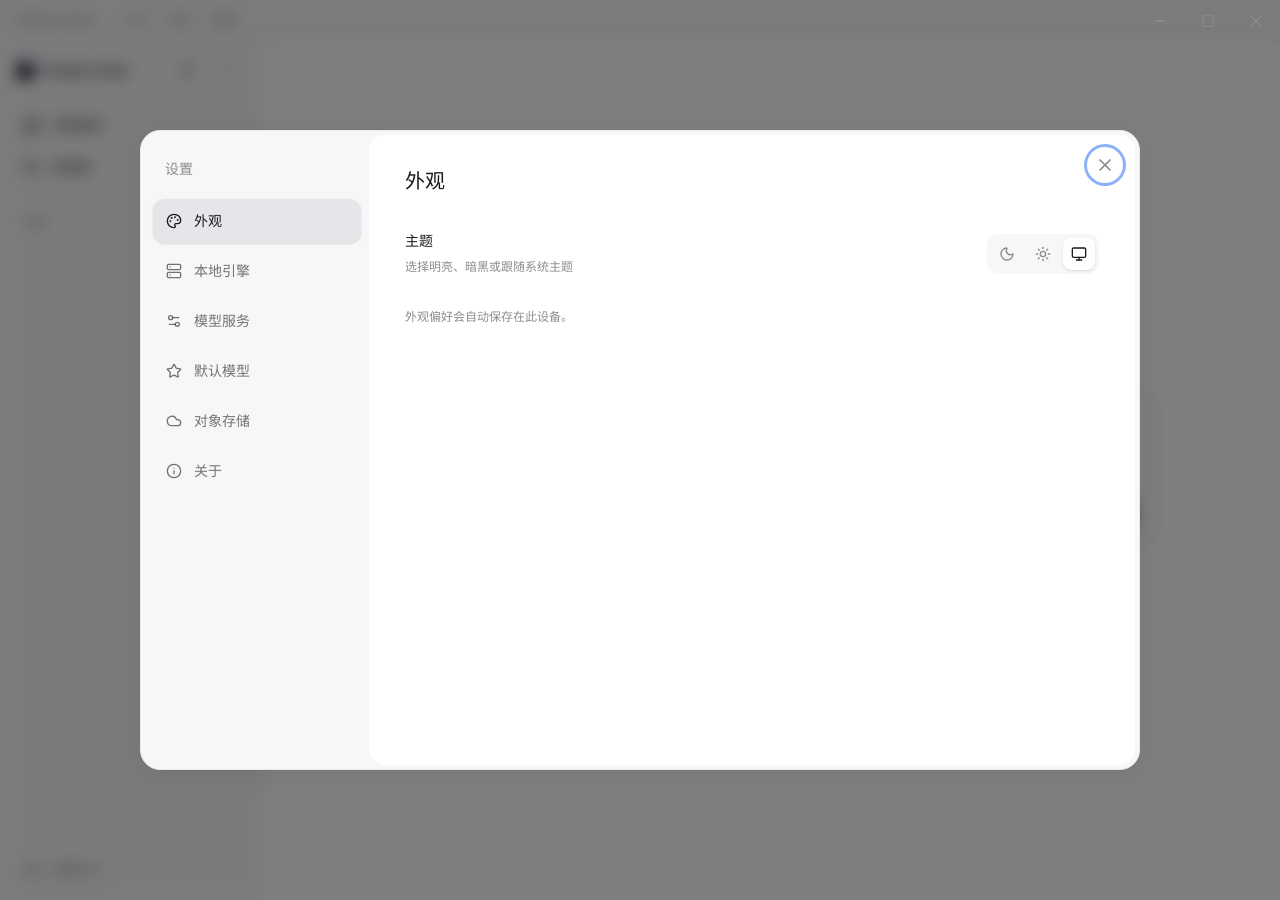
Test: 外观通过桥接读写主题，保存失败显示错误且保留原选择
Click the radio button named "暗黑": (1007, 254) [991,238,1023,270]
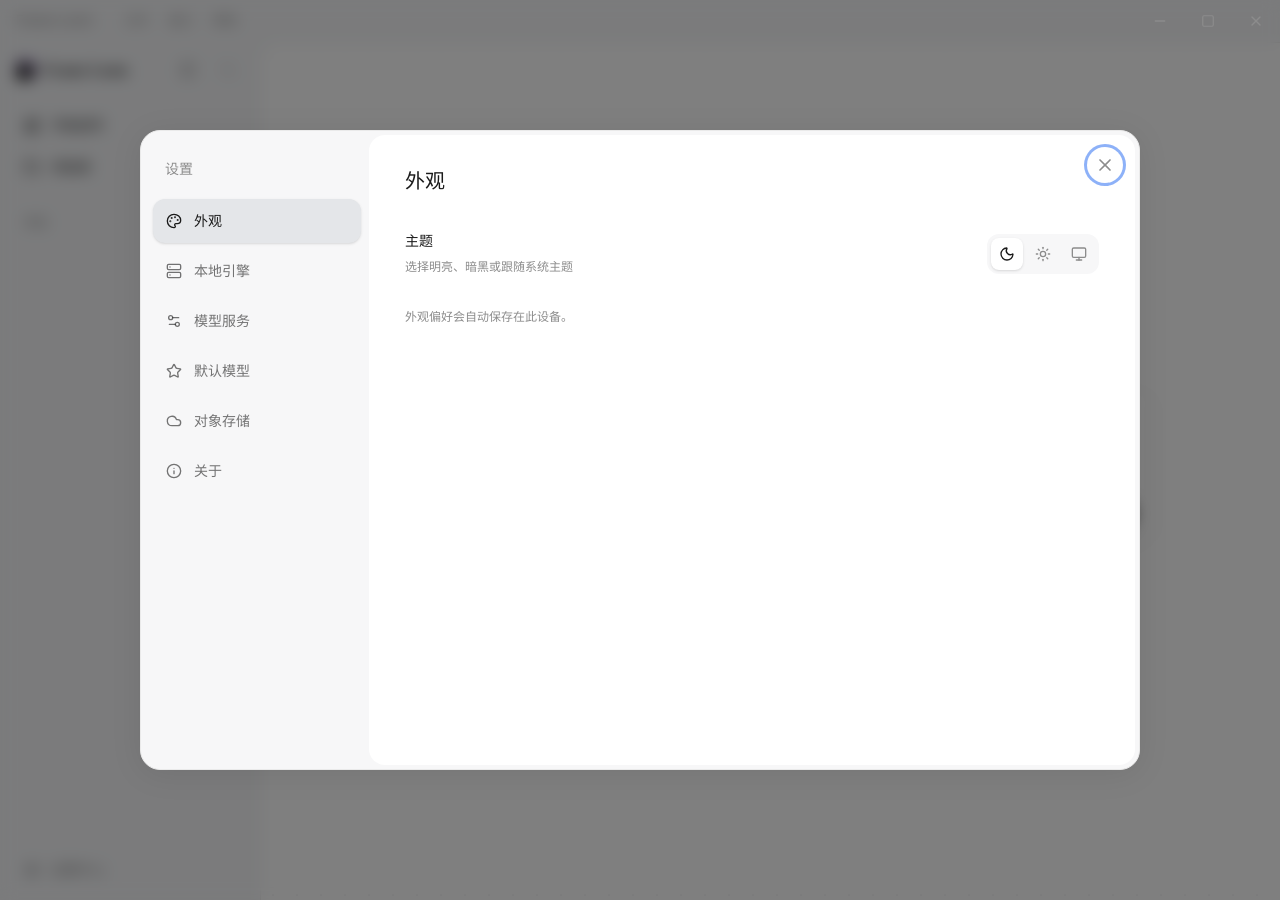
Check: the radio button named "暗黑" is checked, box [991,238,1023,270]
Click the radio button named "明亮": (1043, 254) [1027,238,1059,270]
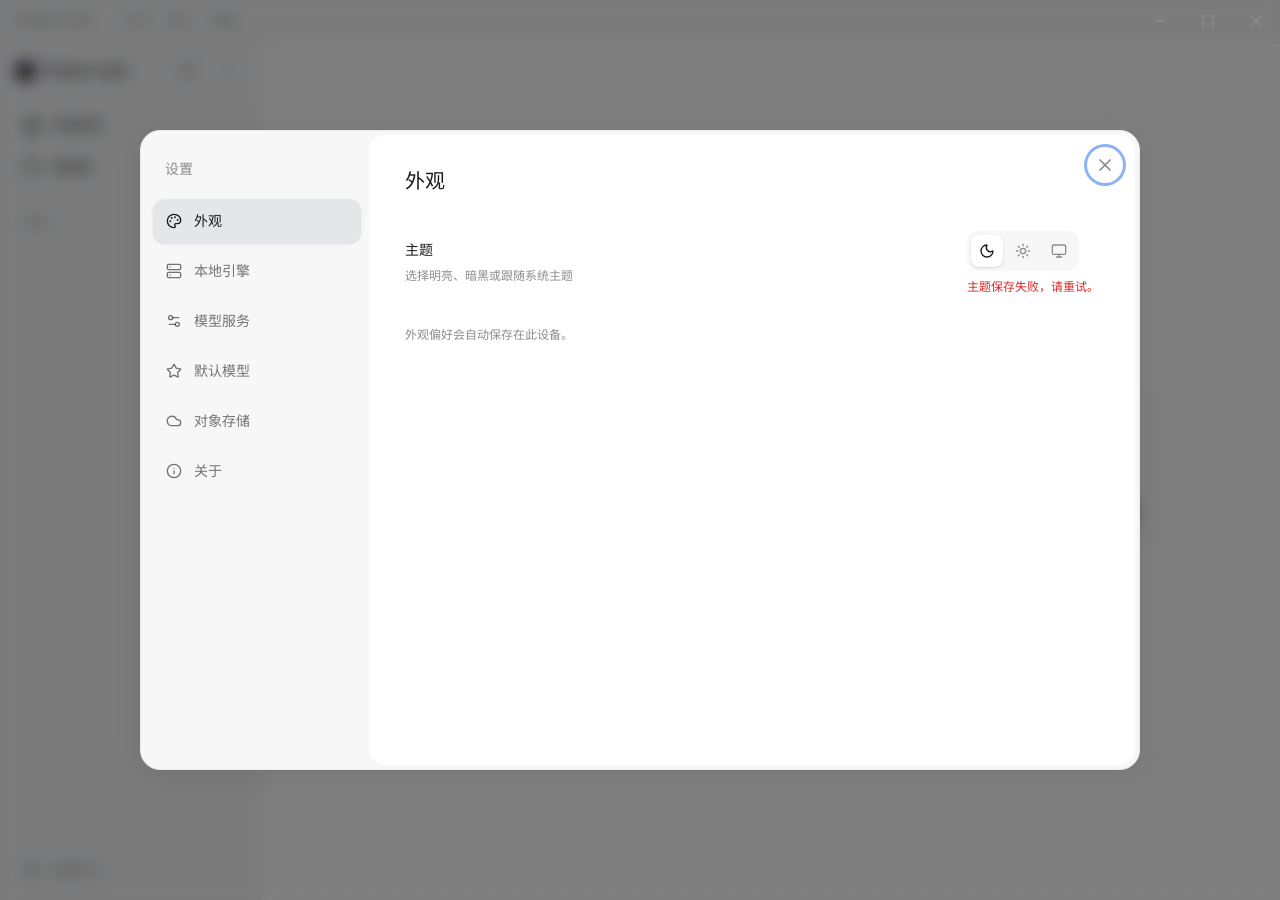
Check: the message shows "主题保存失败", box [967,279,1099,294]
